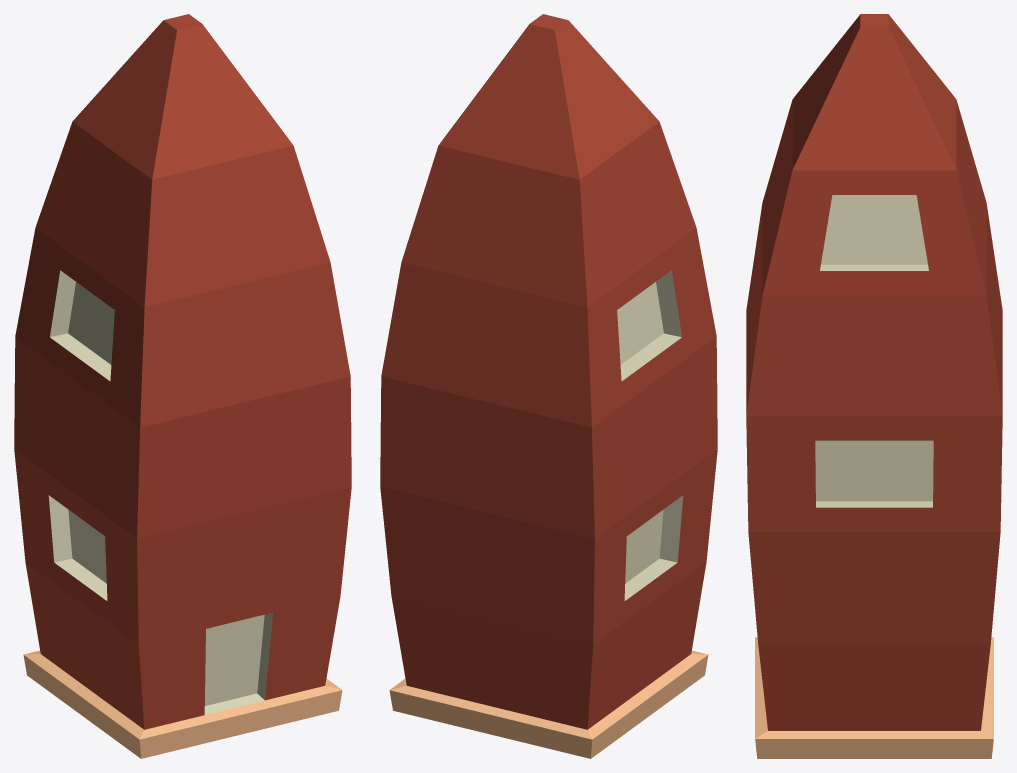
Rendered from predio.glb.
The picture shows the model from 3 angles, left to right: view 1: azimuth 30°, elevation 25°; view 2: azimuth 150°, elevation 25°; view 3: azimuth 270°, elevation 25°; orthographic projection. The views are drawn at different scales.
Parts seen in each view (by area): view 1: predio-2_0; view 2: predio-2_0; view 3: predio-2_0.
Part boxes in pixels (x1=…): predio-2_0: x1=14, y1=14, x2=351, y2=758; predio-2_0: x1=380, y1=14, x2=717, y2=758; predio-2_0: x1=746, y1=14, x2=1002, y2=758.
Bounding box in the file's own units: 7.84 × 23.42 × 7.9.
1 material, 1 textured.
